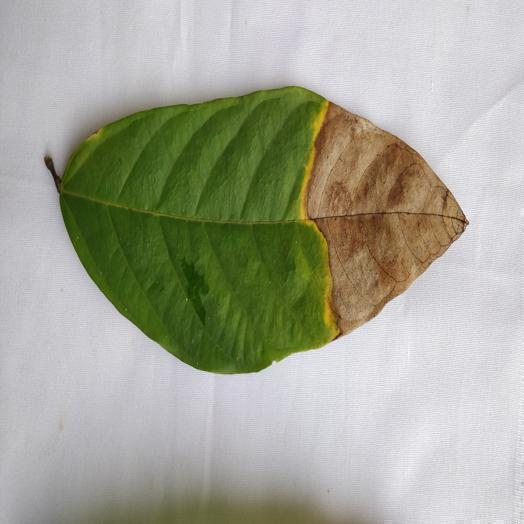Potassium: (46, 87, 466, 371)
